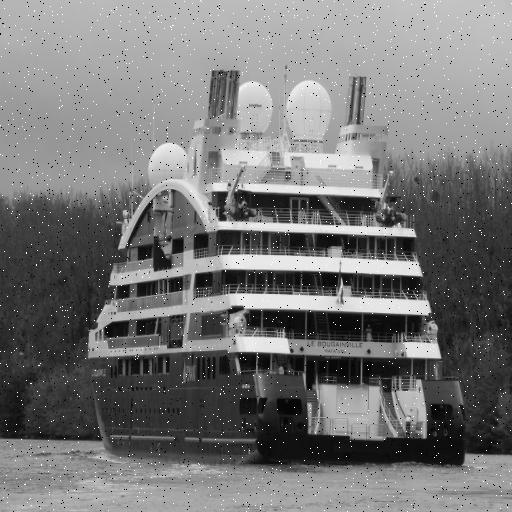cruises: (84, 65, 469, 474)
